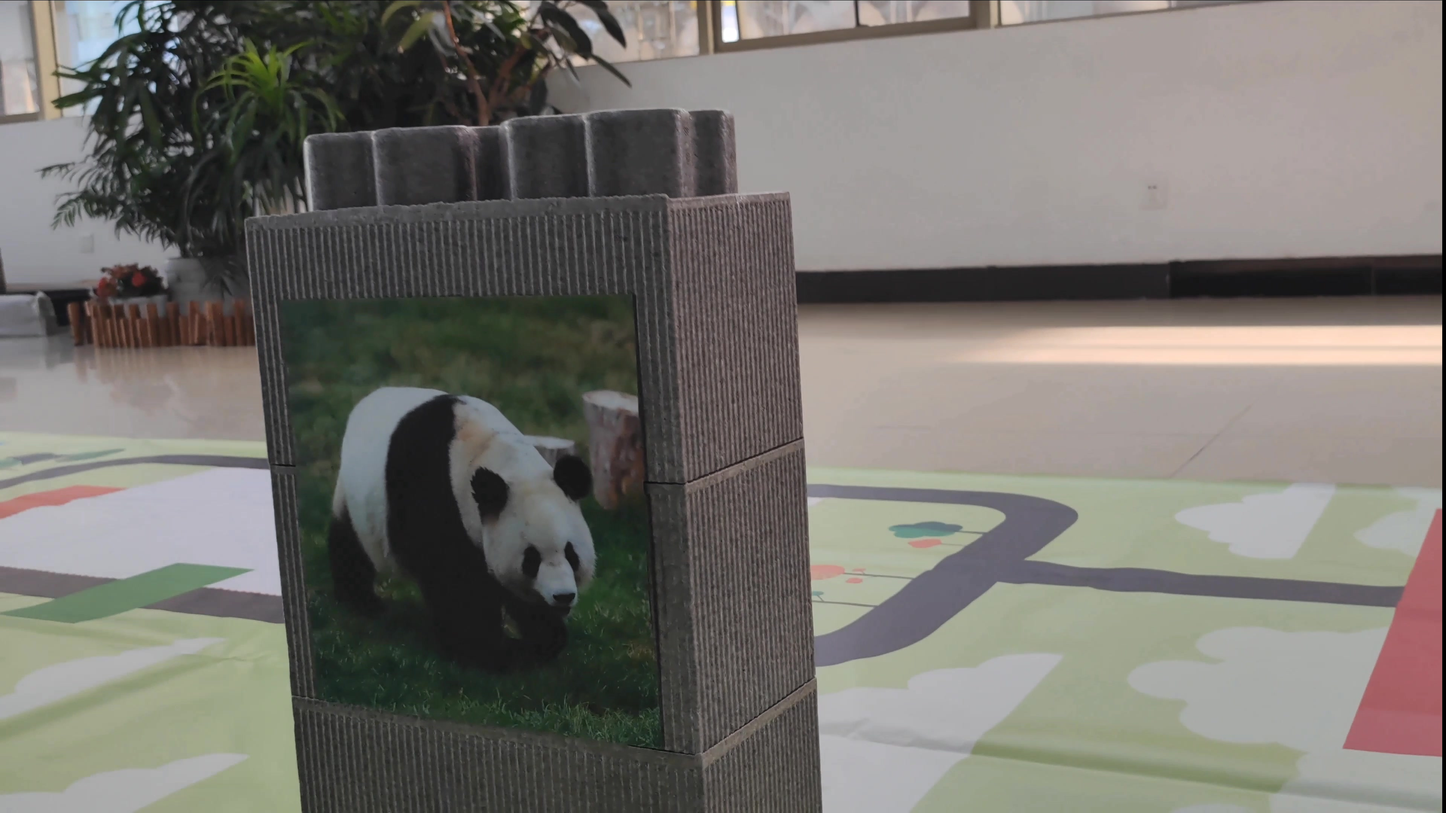panda: (293, 305, 640, 711)
